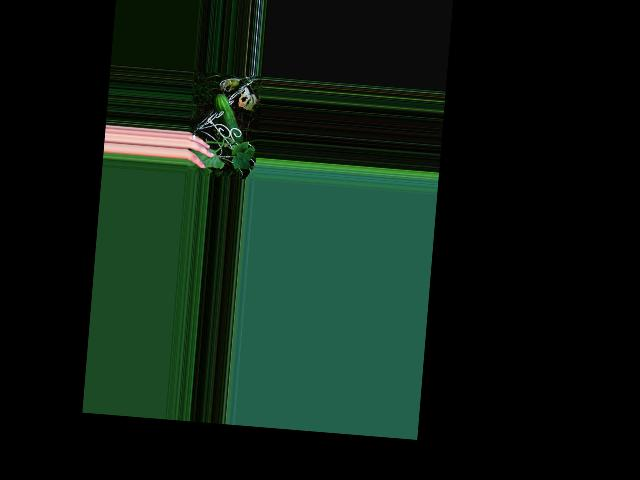cucumber: (210, 93, 247, 144)
